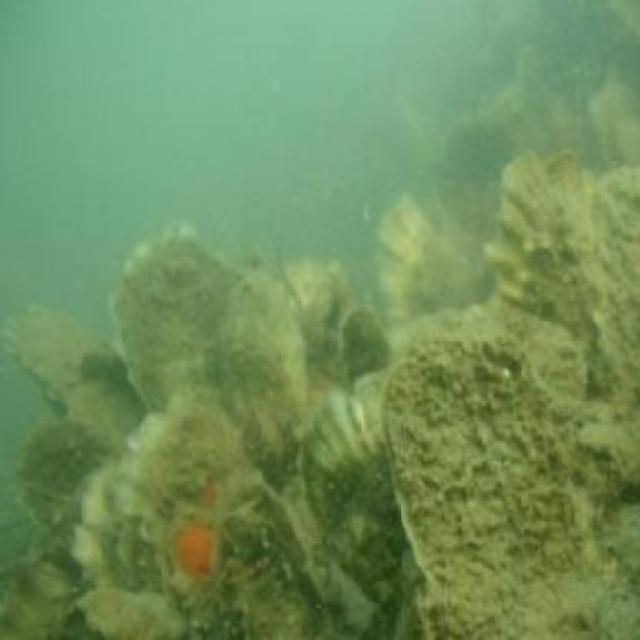Oyster- Indeterminate: (42, 386, 327, 640), (90, 209, 317, 444), (481, 148, 600, 357), (361, 189, 440, 325)
Oyster-Closed: (347, 289, 625, 640)
